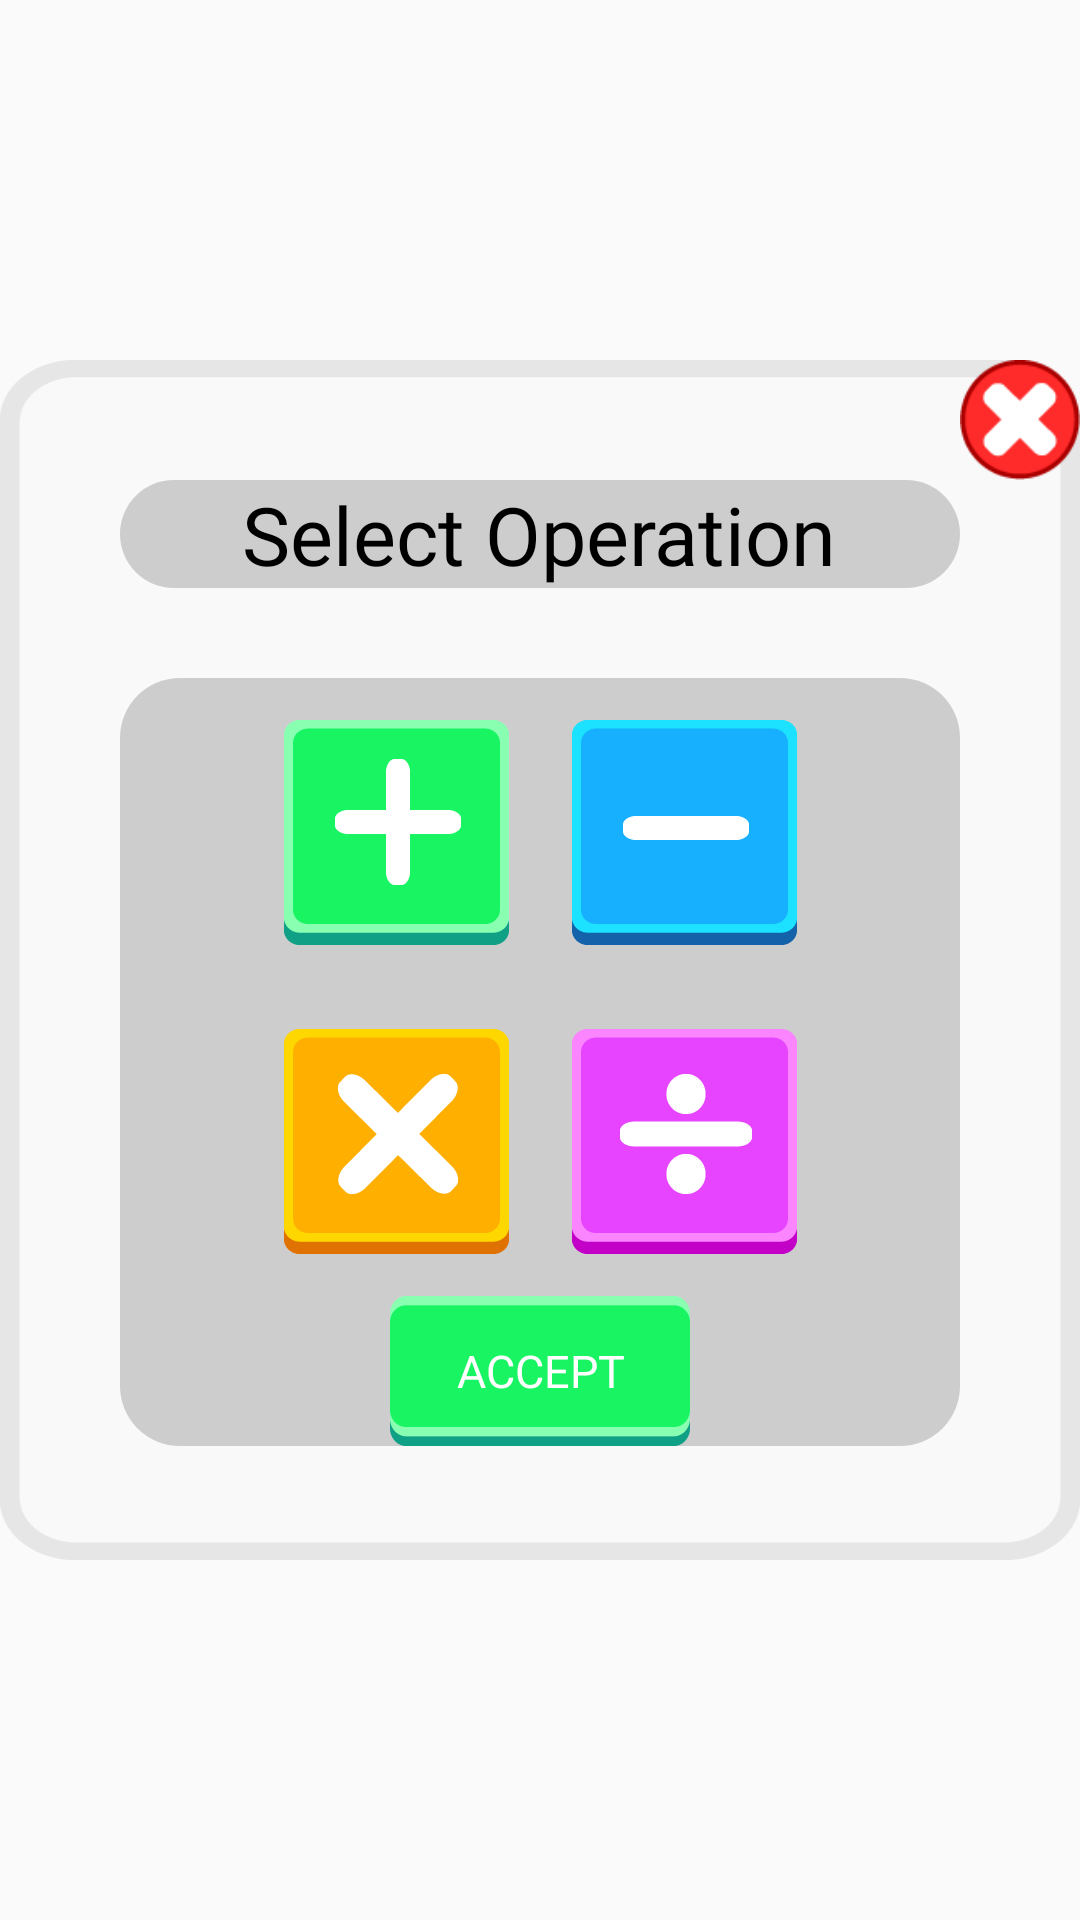

Locate icon controls on the screen. Image size 1080x1920, boxes as [left=x1, top=y1, right=x2, bottom=y2].
cerrar: [left=960, top=360, right=1080, bottom=480]
Division: [left=572, top=1029, right=797, bottom=1254]
Multiplication: [left=284, top=1029, right=509, bottom=1254]
Subtraction: [left=572, top=720, right=797, bottom=945]
Sums: [left=284, top=720, right=509, bottom=945]
